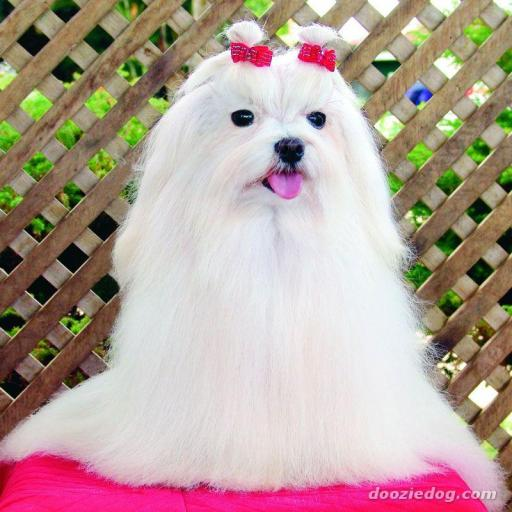dog_face: (130, 34, 399, 235)
